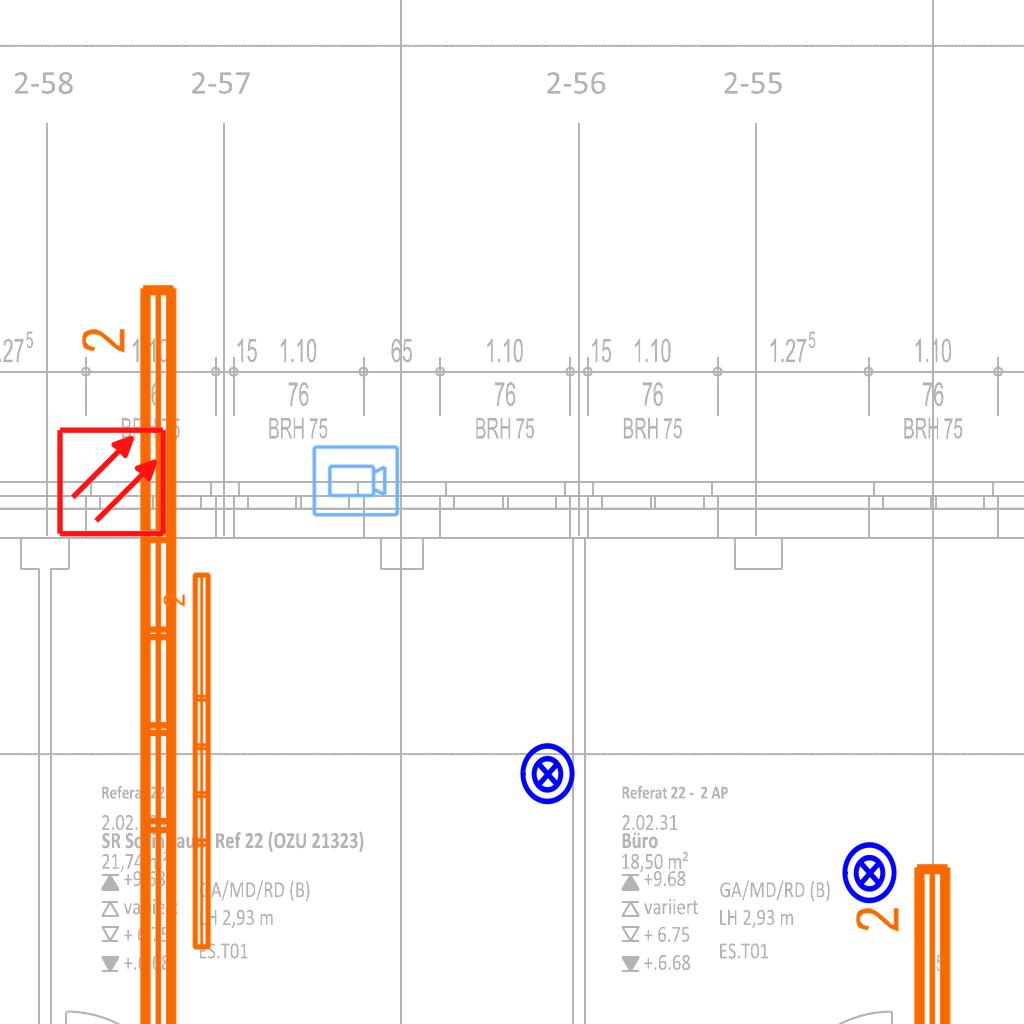Ambulanz_Pendelleuchte_LED: (77, 276, 189, 1024), (161, 568, 217, 955), (851, 855, 963, 1024)
KFO_Kamera_mit_Festobjektiv: (310, 443, 401, 520)
RMO_Rauchmelder_optischer: (55, 425, 168, 538)
Taster_beleuchtet: (837, 840, 903, 906), (515, 741, 581, 807)
